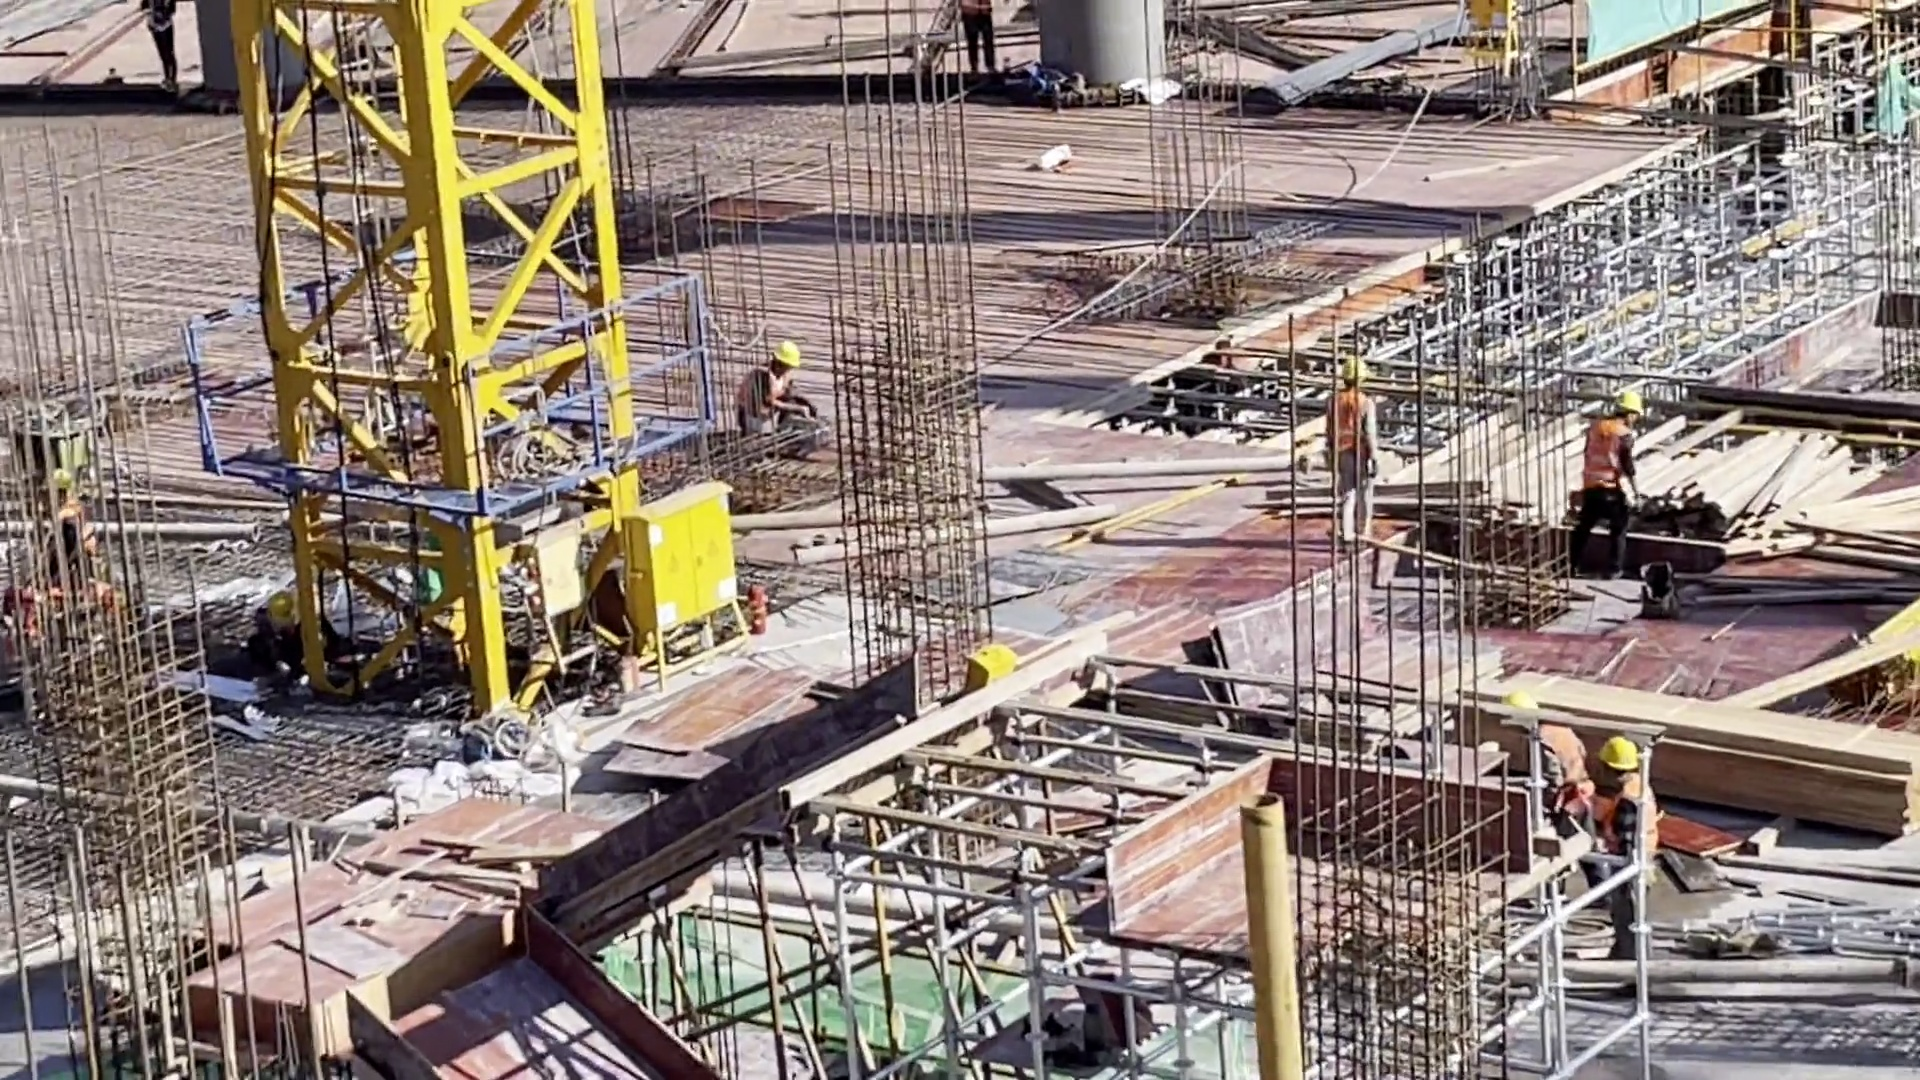ebox: (617, 473, 747, 691), (515, 521, 604, 687), (1458, 1, 1519, 84), (960, 638, 1016, 690)
helmet: (1599, 733, 1637, 770), (772, 339, 803, 371), (1340, 355, 1369, 382), (1612, 391, 1640, 416)
person: (1564, 384, 1640, 589), (1591, 729, 1659, 961), (1505, 686, 1600, 846), (1320, 350, 1383, 551), (735, 341, 814, 442), (253, 583, 301, 683), (954, 1, 1004, 83)
rebar: (1258, 7, 1455, 116)
vest: (1579, 418, 1627, 497), (1323, 388, 1367, 465)
wood: (1658, 696, 1920, 855), (1651, 418, 1920, 557)
